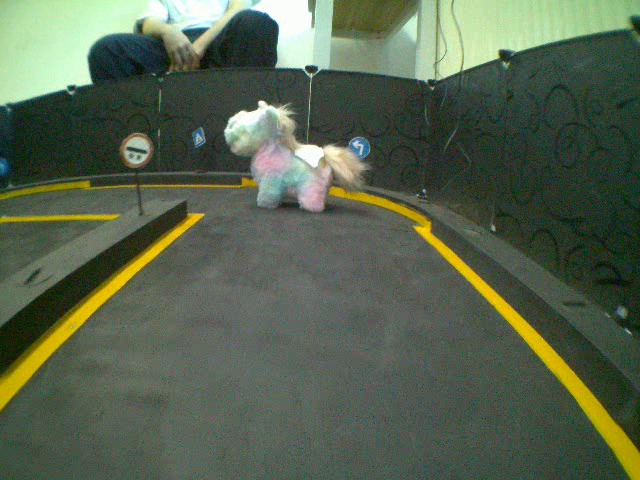unicorn: (212, 96, 383, 231)
